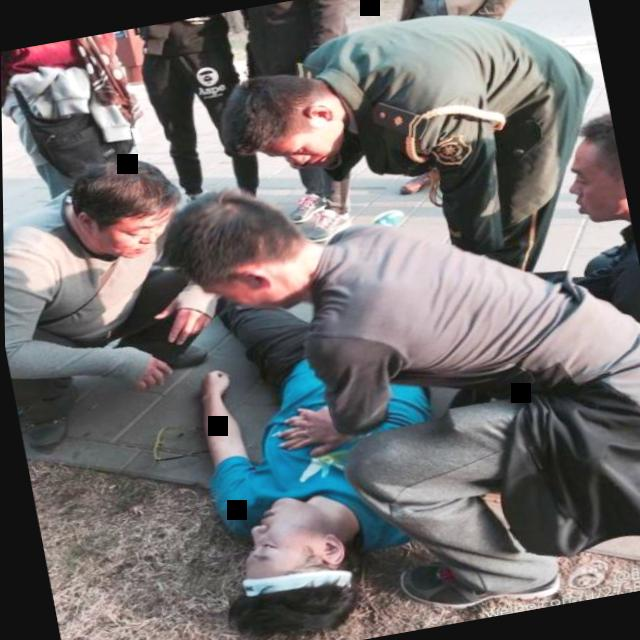Fall-Detected: (160, 268, 459, 640)
